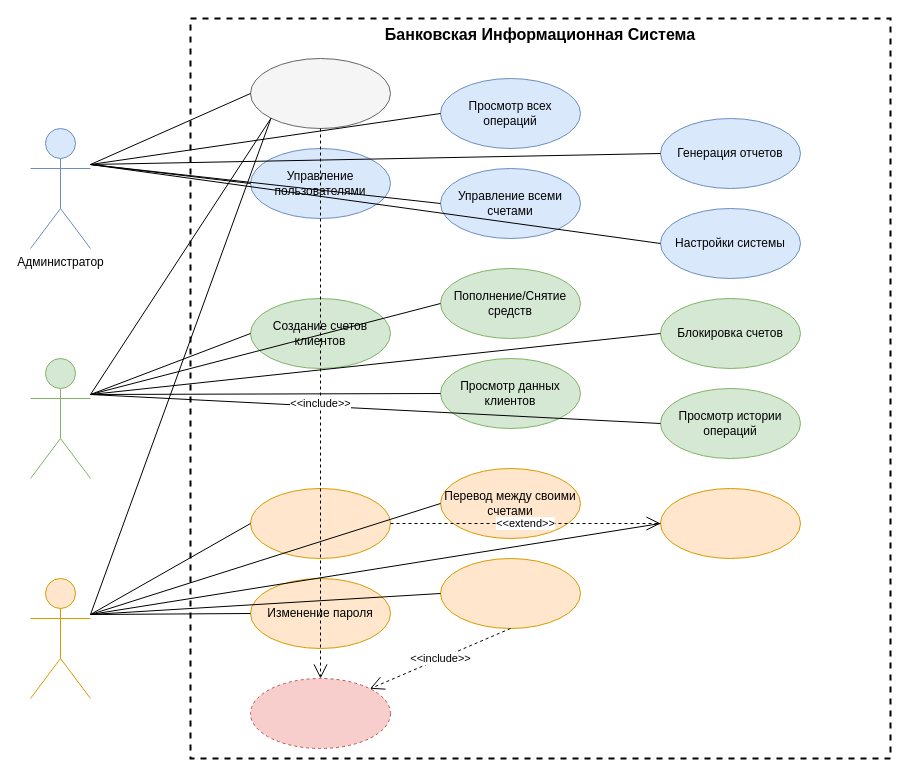
Image size: 909x776. Some labels were removed from this diagram. Here are the shapes that lost their labels. From the top down, the box of each, then its label:
(250, 58, 390, 128): Авторизация в системе
(30, 358, 90, 478): Менеджер
(250, 488, 390, 558): Просмотр баланса счетов
(660, 488, 800, 558): Просмотр своей истории
(440, 558, 580, 628): Перевод другим клиентам
(30, 578, 90, 698): Клиент
(250, 678, 390, 748): Проверка прав доступа
